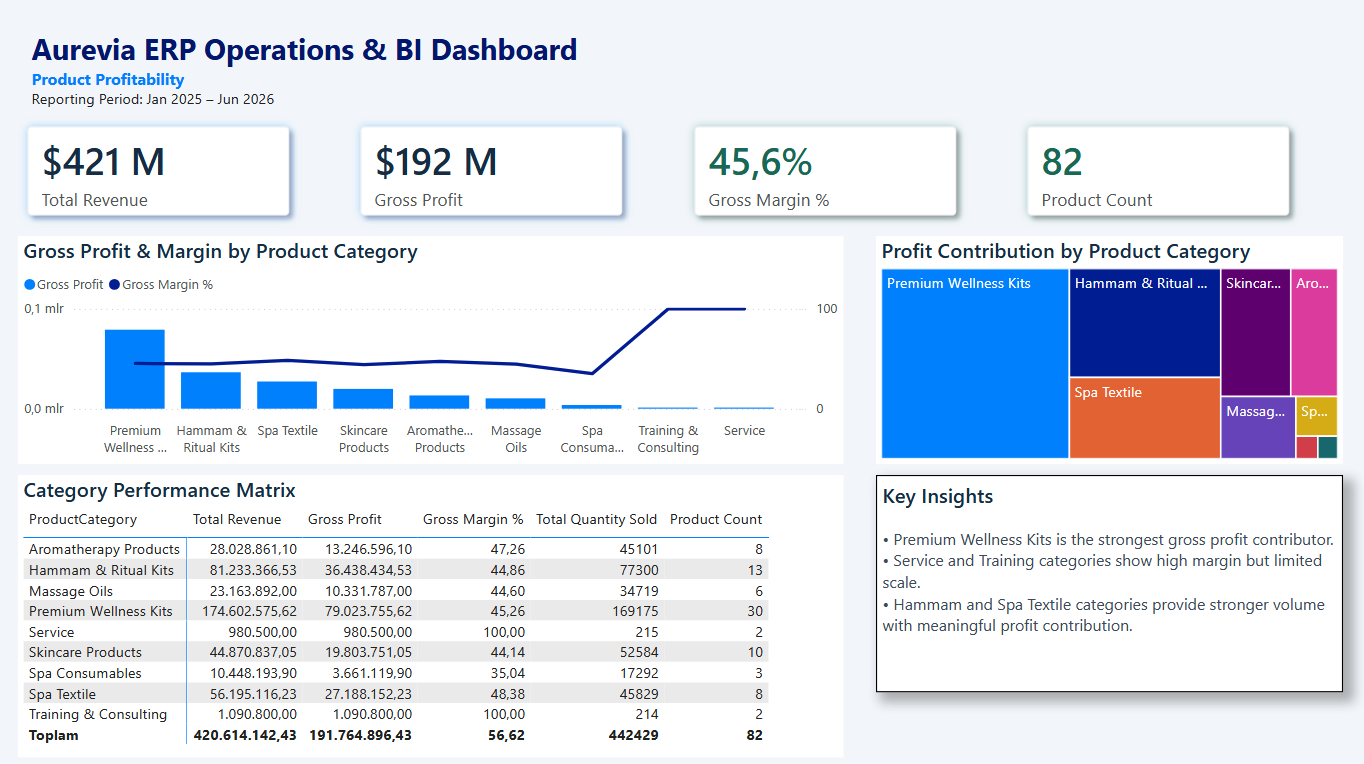

What the dashboard file says about the page in this screenshot:
{"tool":"powerbi","page":{"name":"Product Profitability","canvas":[1280,720],"ordinal":2},"visuals":[{"type":"textbox","title":"Aurevia ERP Operations & BI Dashboard Executive Overview","box":[38.1,34.5,825.6,89.2],"z":0},{"type":"cardVisual","fields":{"Data":["vw_ExecutiveKPI.Total Revenue"]},"box":[9.8,100,299,140],"z":1000},{"type":"cardVisual","fields":{"Data":["vw_ExecutiveKPI.Gross Profit"]},"box":[316.8,100,299,140],"z":2000},{"type":"cardVisual","fields":{"Data":["vw_ExecutiveKPI.Gross Margin %"]},"box":[623.8,100,299,140],"z":3000},{"type":"cardVisual","fields":{"Data":["Sum(vw_ProductCategoryProfitability.ProductCount)"]},"box":[930.8,100,299.8,140.4],"z":4000},{"type":"lineClusteredColumnComboChart","title":"Gross Profit & Margin by Product Category","fields":{"Category":["vw_ProductCategoryProfitability.ProductCategory"],"Y":["Sum(vw_ProductCategoryProfitability.GrossProfit)"],"Y2":["Avg(vw_ProductCategoryProfitability.GrossMarginPercent)"]},"box":[30,230,760,210],"z":5000},{"type":"treemap","title":"Profit Contribution by Product Category","fields":{"Group":["vw_ProductCategoryProfitability.ProductCategory"],"Values":["Sum(vw_ProductCategoryProfitability.GrossProfit)"]},"box":[820.1,230,430,210],"z":6000},{"type":"pivotTable","title":"Category Performance Matrix","fields":{"Rows":["vw_ProductCategoryProfitability.ProductCategory"],"Values":["Sum(vw_ProductCategoryProfitability.TotalRevenue)","Sum(vw_ProductCategoryProfitability.GrossProfit)","Avg(vw_ProductCategoryProfitability.GrossMarginPercent)","Sum(vw_ProductCategoryProfitability.TotalQuantitySold)","Sum(vw_ProductCategoryProfitability.ProductCount)"]},"box":[30,450,760,260],"z":7000},{"type":"textbox","box":[820,450,430,200],"z":8000}]}

Visuals, with their boxes in screenshot pixels (x1, y1, x2, y2), scaled from the page's 1280x720 canvas onto the 1364x764 screenshot:
"Aurevia ERP Operations & BI Dashboard Executive Overview" textbox: [left=41, top=37, right=920, bottom=131]
cardVisual - vw_ExecutiveKPI.Total Revenue: [left=10, top=106, right=329, bottom=255]
cardVisual - vw_ExecutiveKPI.Gross Profit: [left=338, top=106, right=656, bottom=255]
cardVisual - vw_ExecutiveKPI.Gross Margin %: [left=665, top=106, right=983, bottom=255]
cardVisual - Sum(vw_ProductCategoryProfitability.ProductCount): [left=992, top=106, right=1311, bottom=255]
"Gross Profit & Margin by Product Category" lineClusteredColumnComboChart: [left=32, top=244, right=842, bottom=467]
"Profit Contribution by Product Category" treemap: [left=874, top=244, right=1332, bottom=467]
"Category Performance Matrix" pivotTable: [left=32, top=478, right=842, bottom=753]
textbox: [left=874, top=478, right=1332, bottom=690]
